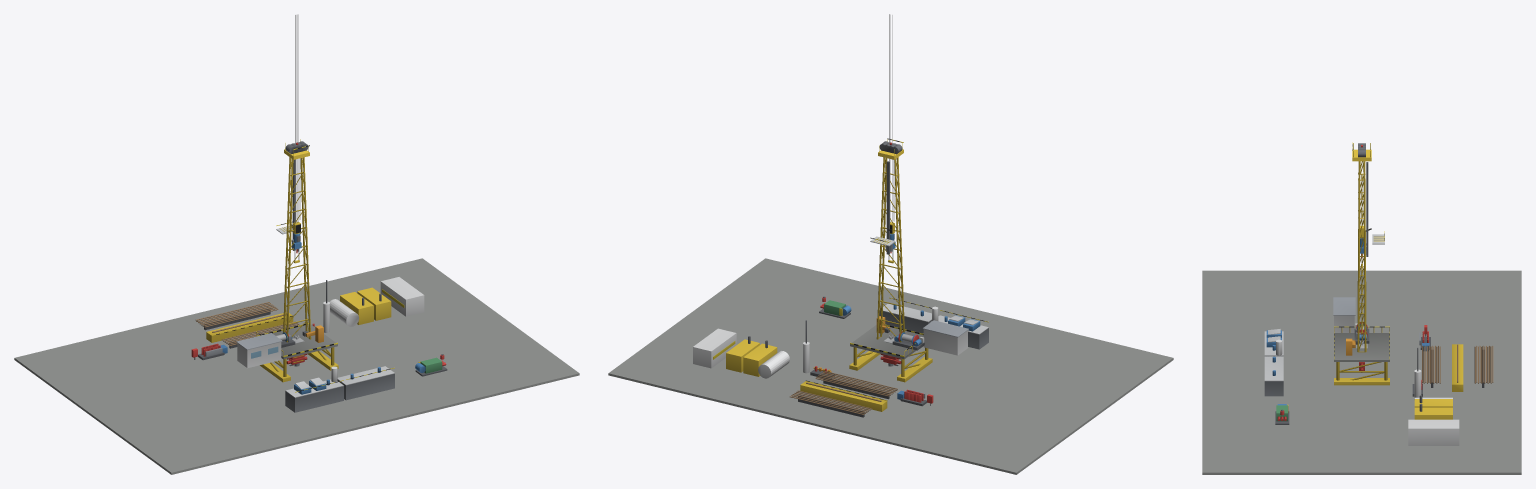
Rendered from single_high.glb.
3 views of the same model, side by side, from view 1: azimuth 30°, elevation 25°; view 2: azimuth 150°, elevation 25°; view 3: azimuth 270°, elevation 25° (orthographic).
Parts seen in each view (by area): view 1: site__pad, mudtanks__tanks, mast__mast, pipehandling__racker, generators__gensets, mast__doghouse, generators__vfd, mast__floor, pipehandling__catwalk, block__travelling, mast__substructure; view 2: site__pad, mast__mast, pipehandling__racker, mudtanks__tanks, generators__gensets, mast__doghouse, mast__floor, generators__vfd, pipehandling__catwalk, mast__substructure; view 3: site__pad, mast__mast, pipehandling__racker, mast__floor, generators__vfd, mudtanks__tanks, generators__gensets, mast__doghouse, mast__substructure, pipehandling__catwalk.
Boxes of the visible parts, bbox=[...] form: site__pad: bbox=[14, 258, 579, 474]; mudtanks__tanks: bbox=[285, 366, 394, 412]; mast__mast: bbox=[283, 157, 311, 342]; pipehandling__racker: bbox=[195, 302, 299, 348]; generators__gensets: bbox=[340, 287, 391, 324]; mast__doghouse: bbox=[236, 333, 282, 368]; generators__vfd: bbox=[380, 277, 424, 316]; mast__floor: bbox=[256, 323, 337, 359]; pipehandling__catwalk: bbox=[206, 312, 293, 342]; block__travelling: bbox=[293, 14, 300, 234]; mast__substructure: bbox=[260, 347, 338, 382]; site__pad: bbox=[608, 258, 1173, 474]; mast__mast: bbox=[876, 157, 904, 342]; pipehandling__racker: bbox=[789, 371, 897, 417]; mudtanks__tanks: bbox=[879, 297, 988, 349]; generators__gensets: bbox=[726, 336, 777, 376]; mast__doghouse: bbox=[922, 320, 968, 355]; mast__floor: bbox=[850, 324, 923, 359]; generators__vfd: bbox=[693, 328, 736, 368]; pipehandling__catwalk: bbox=[800, 380, 887, 411]; mast__substructure: bbox=[849, 347, 932, 382]; site__pad: bbox=[1202, 270, 1521, 474]; mast__mast: bbox=[1357, 161, 1366, 352]; pipehandling__racker: bbox=[1422, 345, 1493, 387]; mast__floor: bbox=[1334, 326, 1389, 361]; generators__vfd: bbox=[1408, 419, 1459, 445]; mudtanks__tanks: bbox=[1264, 331, 1283, 396]; generators__gensets: bbox=[1414, 395, 1452, 419]; mast__doghouse: bbox=[1333, 297, 1355, 332]; mast__substructure: bbox=[1334, 362, 1389, 385]; pipehandling__catwalk: bbox=[1452, 344, 1463, 391].
Bounding box in the file's own units: 60 × 50.47 × 40.
